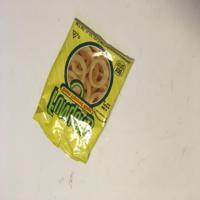plastic: (33, 18, 134, 163)
